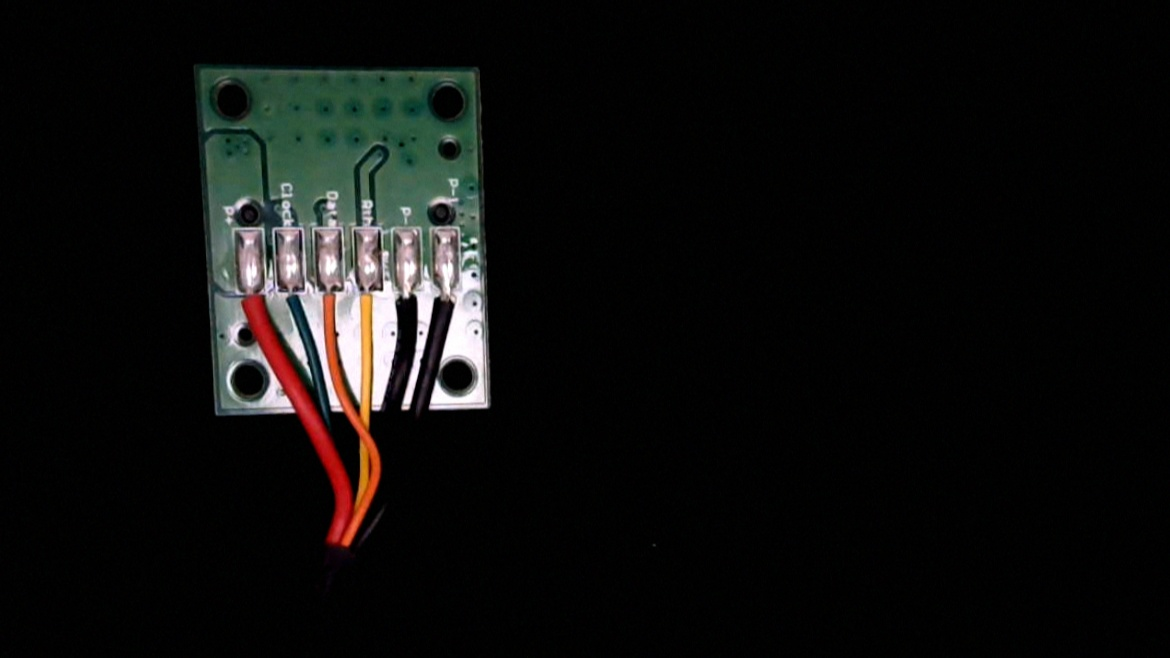Black: (392, 271, 423, 342)
Black1: (429, 271, 462, 340)
Green: (274, 271, 309, 336)
Orange: (314, 267, 347, 342)
Red: (233, 272, 268, 345)
Yellow: (351, 268, 385, 346)
